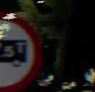Heavy Vehicles: (1, 5, 43, 91)
